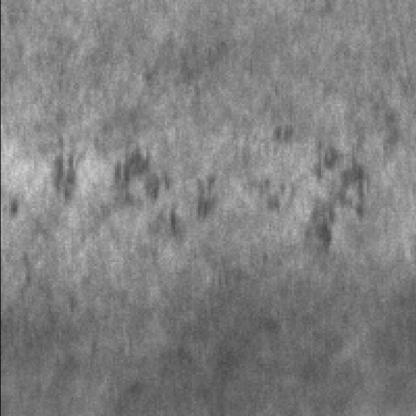rolled-in_scale: (27, 131, 370, 264)
